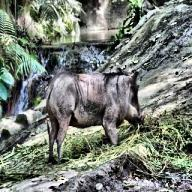boar: (44, 68, 146, 162)
